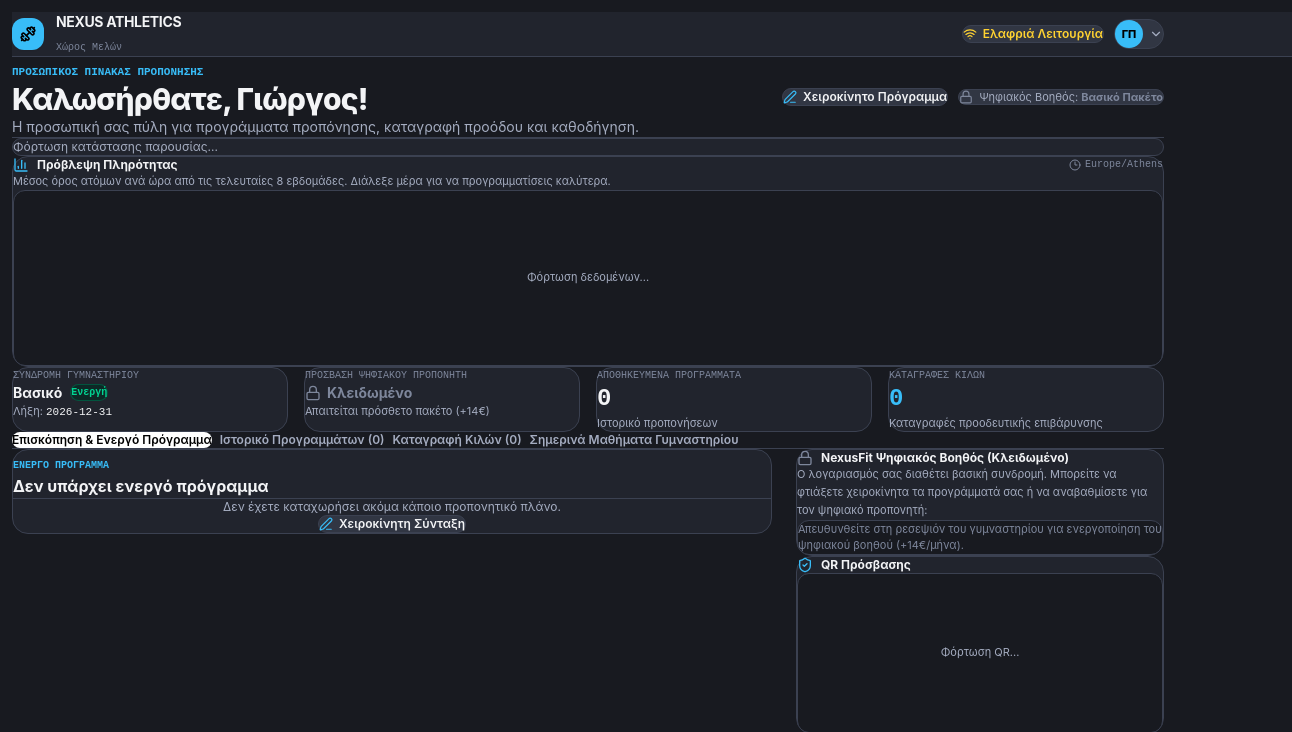
MemberPortalPage (the member's home screen) › explains how to start when no plan is saved yet
Expected: the heading "Δεν υπάρχει ενεργό πρόγραμμα" is shown, [13, 474, 268, 498]
Expected: the text "Δεν έχετε καταχωρήσει ακόμα κάποιο προπονητικό πλάνο." is shown, [223, 499, 561, 514]
Click the button "Ιστορικό Προγραμμάτων (0)" at (302, 440), box [220, 432, 385, 448]
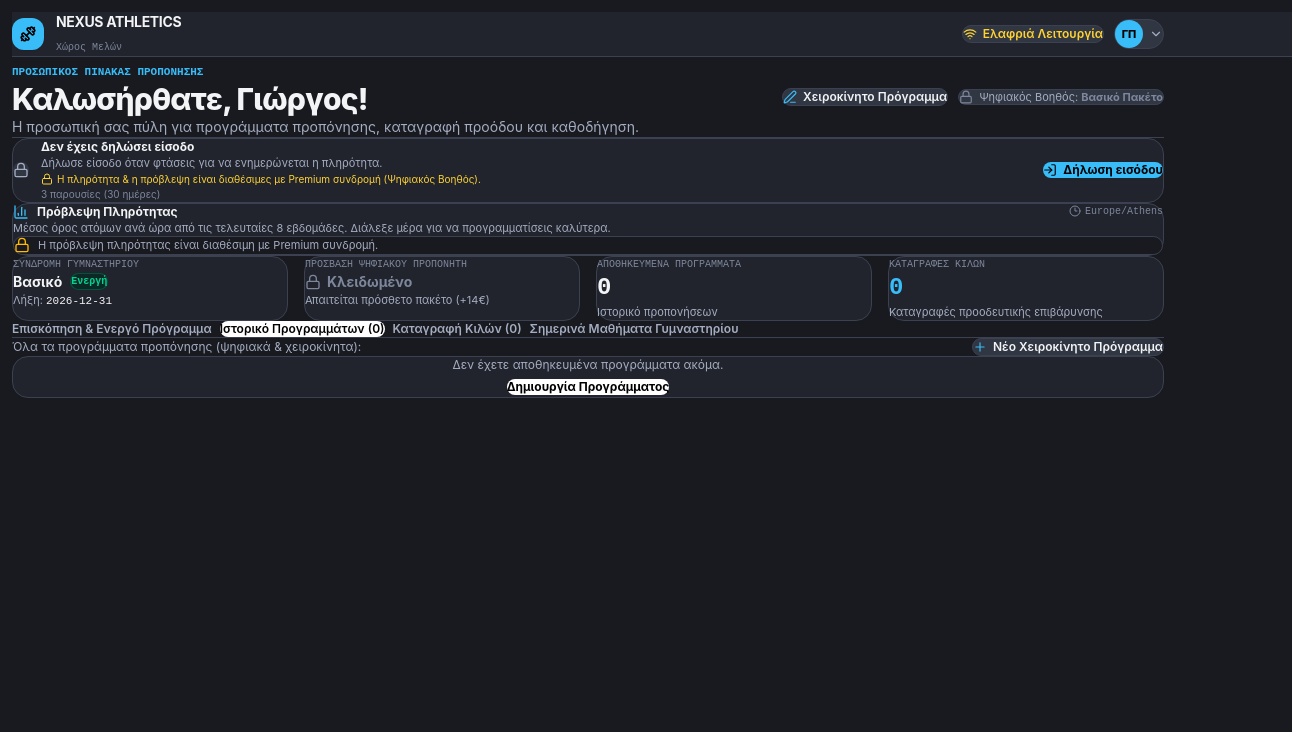
Result: the text "Δεν έχετε αποθηκευμένα προγράμματα ακόμα." is shown at [452, 357, 724, 372]
